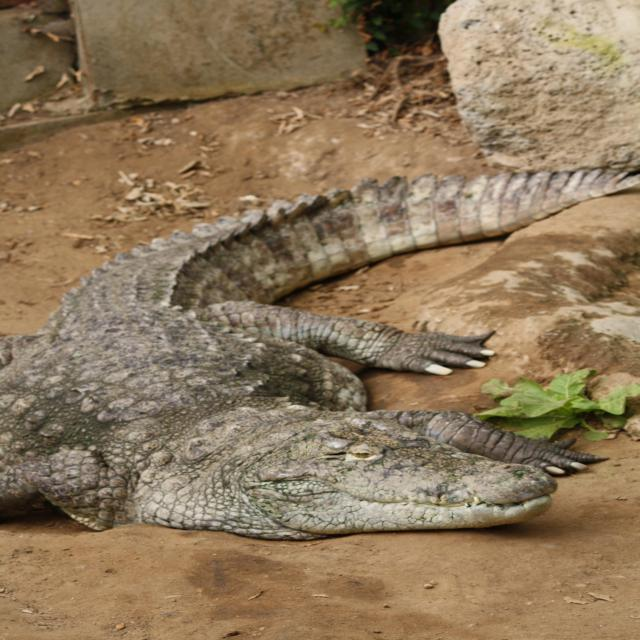crocodile: (0, 108, 640, 594)
